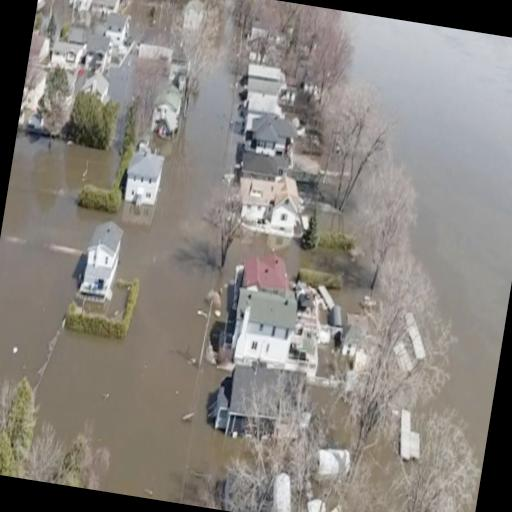flood: (0, 65, 365, 503), (348, 11, 512, 468), (307, 386, 350, 448), (50, 0, 106, 34), (106, 52, 135, 107), (330, 287, 365, 319), (126, 0, 149, 41), (317, 346, 329, 377), (331, 352, 346, 365)
house: (217, 248, 303, 376), (206, 354, 310, 446), (234, 161, 304, 239), (73, 213, 127, 310), (238, 61, 290, 139), (120, 143, 168, 213), (248, 112, 292, 170), (148, 82, 184, 136), (96, 11, 132, 53), (44, 40, 82, 72), (179, 0, 204, 32), (80, 69, 108, 96), (245, 19, 269, 46), (87, 0, 121, 19), (35, 0, 50, 14)
